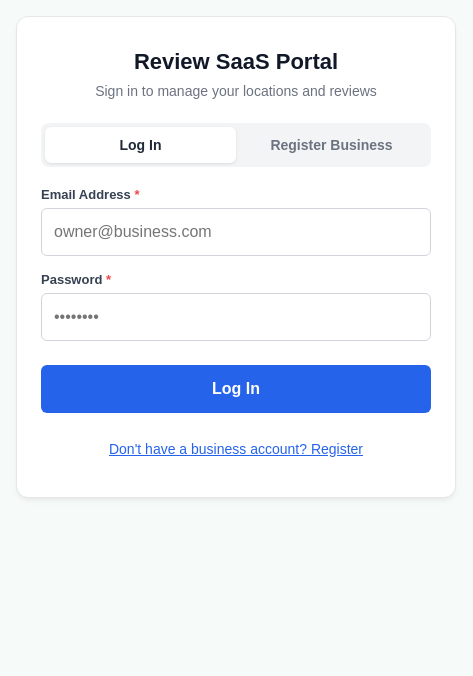
Test case: OwnerAuth Component Tests › 2. should toggle between login and registration modes, sensibly preserving email and clearing password
Type "test@example.com" into the field with test id "login-email-input". click: (236, 232)
box: [41,208,431,256]
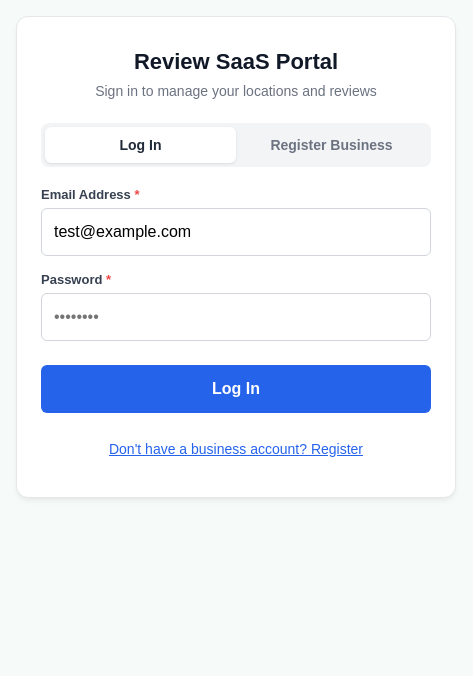
Type "SecretPassword123!" into the password field with test id "login-password-input". click: (236, 317)
box: [41,293,431,341]
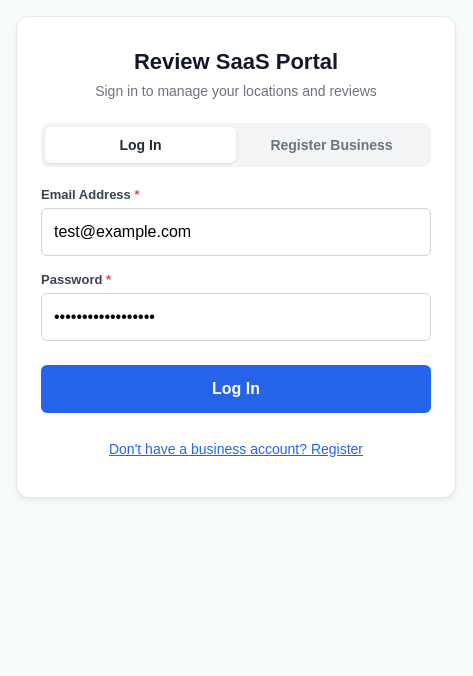
// Switch to register mode
Click the button with test id "auth-mode-register-tab". click: (332, 145)
box: [236,127,427,163]
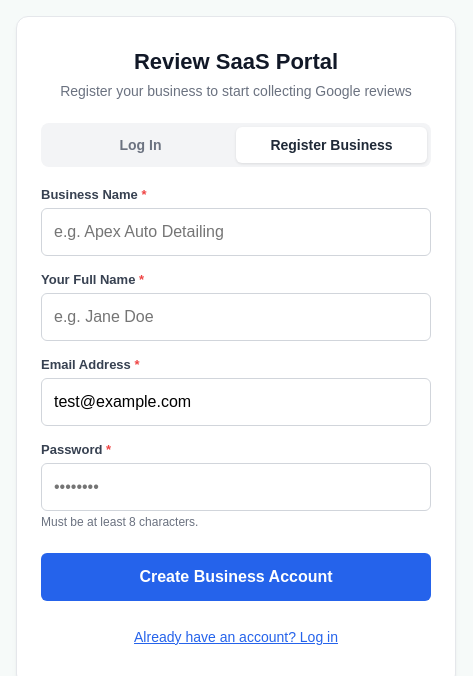
Result: the field with test id "register-business-name-input" is shown at [41,208,431,256]
Result: the field with test id "register-full-name-input" is shown at [41,293,431,341]
Result: the button with test id "auth-submit-button" reads "Create Business Account" at [41,553,431,601]
// Toggle link also switches back to login
Click the button with test id "auth-mode-toggle-link". click: (236, 637)
box: [126,621,346,653]
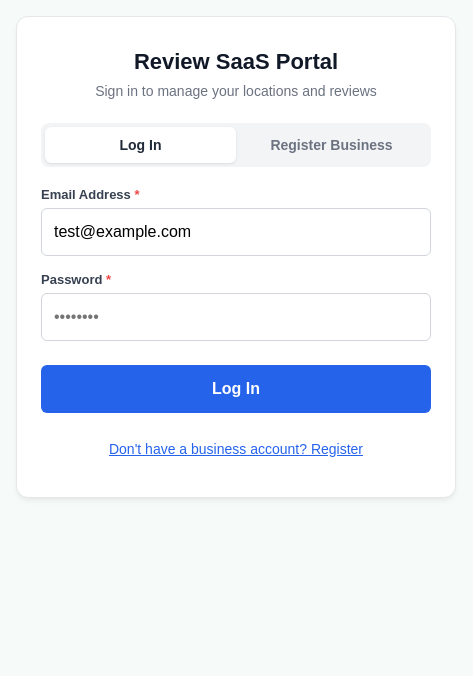
Result: the field with test id "register-business-name-input" is gone
Result: the button with test id "auth-submit-button" reads "Log In" at [41,365,431,413]
